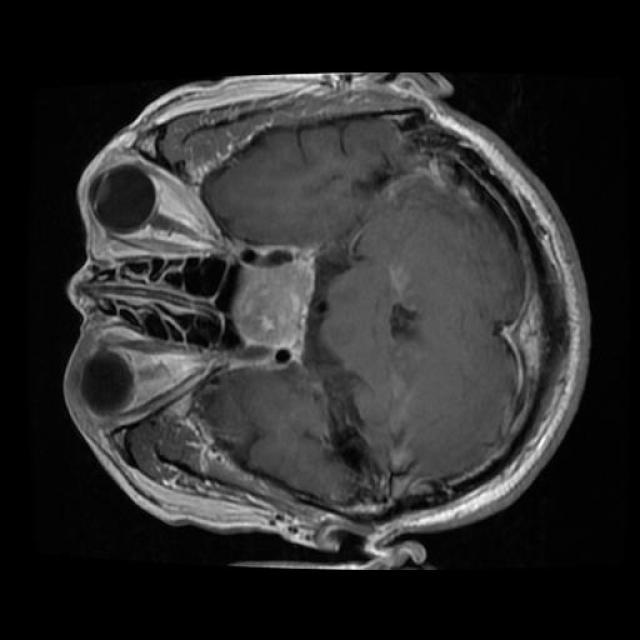Pituitary: (228, 246, 315, 368)
